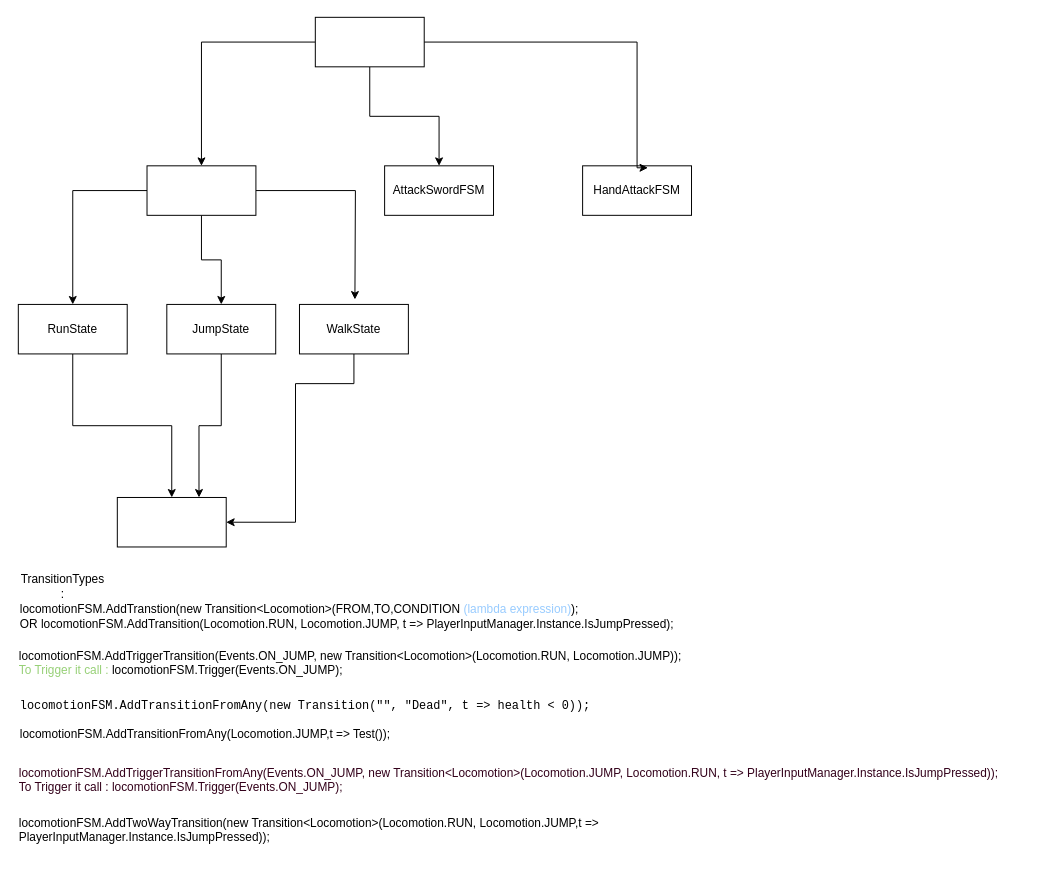
This 1064x876 diagram has some shape labels left out. Each missing label, with the centre of its shape:
locomotionFSM: the point at 201,190
LocomotionHandler: the point at 171,521
PlayerFSM: the point at 369,41
